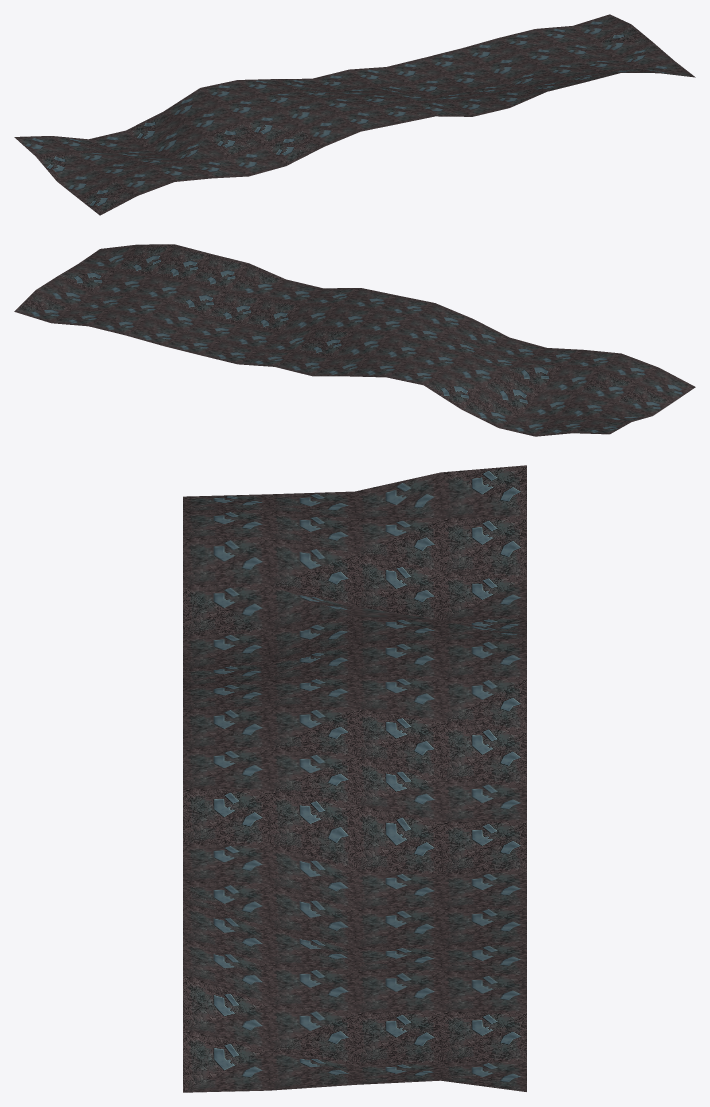
The model's file is track_military_env_terrain_04.fbx.
3 renders of one model, top to bottom at view 1: azimuth 30°, elevation 25°; view 2: azimuth 150°, elevation 25°; view 3: azimuth 270°, elevation 25°, orthographic. The views are drawn at different scales.
Parts seen in each view (by area): view 1: track_military_env_terrain_04; view 2: track_military_env_terrain_04; view 3: track_military_env_terrain_04.
Boxes of the visible parts, left/top/right/bottom form: track_military_env_terrain_04: left=14, top=14, right=695, bottom=215; track_military_env_terrain_04: left=14, top=244, right=695, bottom=436; track_military_env_terrain_04: left=183, top=465, right=526, bottom=1092.
Size of the model in its own units: 914 by 49.02 by 229.
